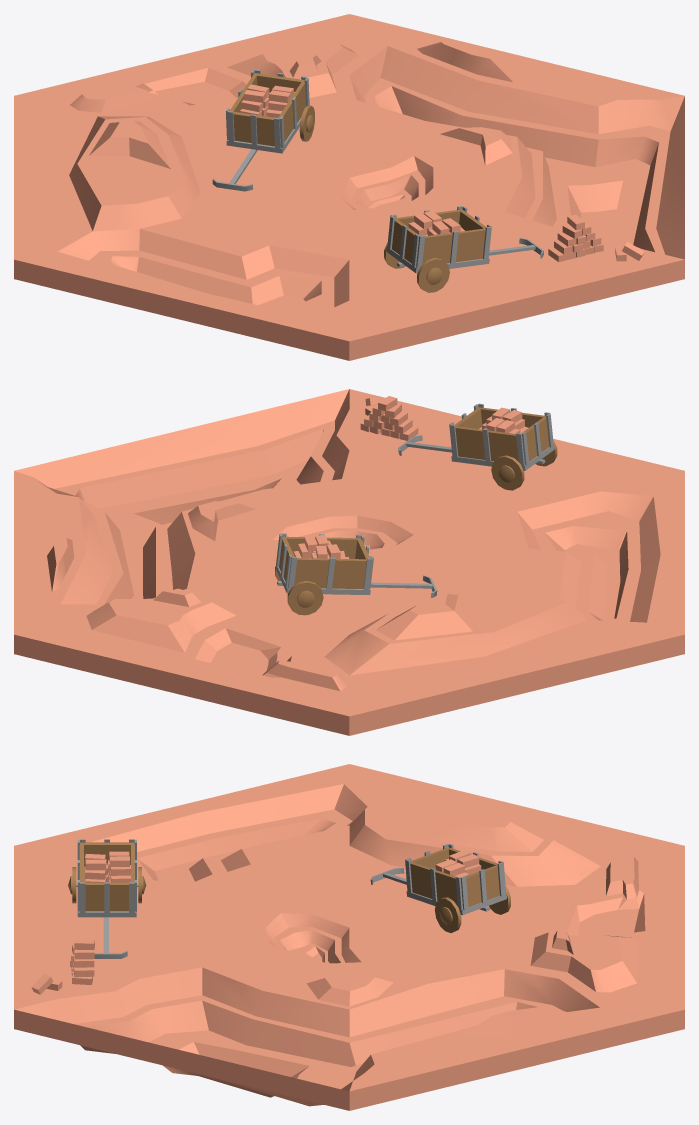
The model's file is brick_tile_full01.fbx.
3 views of the same model, one above another, from view 1: azimuth 30°, elevation 25°; view 2: azimuth 150°, elevation 25°; view 3: azimuth 270°, elevation 25° (orthographic).
Parts seen in each view (by area): view 1: brick_tile_full; view 2: brick_tile_full; view 3: brick_tile_full.
Part boxes in pixels (box(x1,y1,x2,y2)): brick_tile_full: box(14, 14, 684, 360); brick_tile_full: box(14, 389, 684, 735); brick_tile_full: box(14, 764, 684, 1110).
Size of the model in its own units: 139 by 22.66 by 120.
